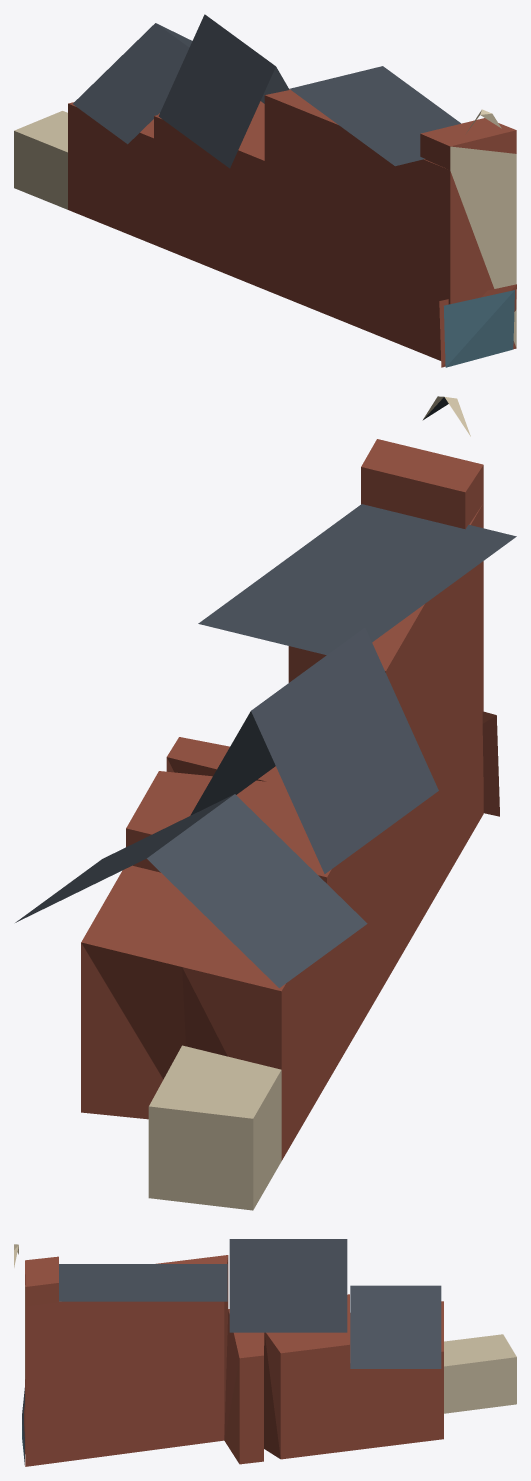
File: sexmuseum-venustempel.lod2.glb
3 views of the same model, one above another, from view 1: azimuth 30°, elevation 25°; view 2: azimuth 150°, elevation 25°; view 3: azimuth 270°, elevation 25° (orthographic). The views are drawn at different scales.
Parts seen in each view (by area): view 1: lod2; view 2: lod2; view 3: lod2.
Part boxes in pixels (x1,y1,x2,y2): lod2: (14, 14, 516, 367); lod2: (15, 396, 516, 1210); lod2: (14, 1239, 516, 1466).
Bounding box in the file's own units: 15.89 × 17.95 × 39.52.
